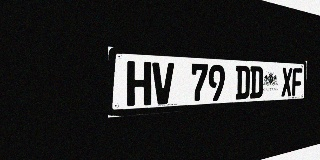7: (190, 63, 208, 102)
9: (208, 64, 225, 101)
D: (235, 65, 250, 100), (250, 66, 263, 99)
F: (292, 68, 302, 96)
H: (127, 61, 151, 106)
V: (152, 62, 174, 105)
X: (281, 67, 292, 97)
